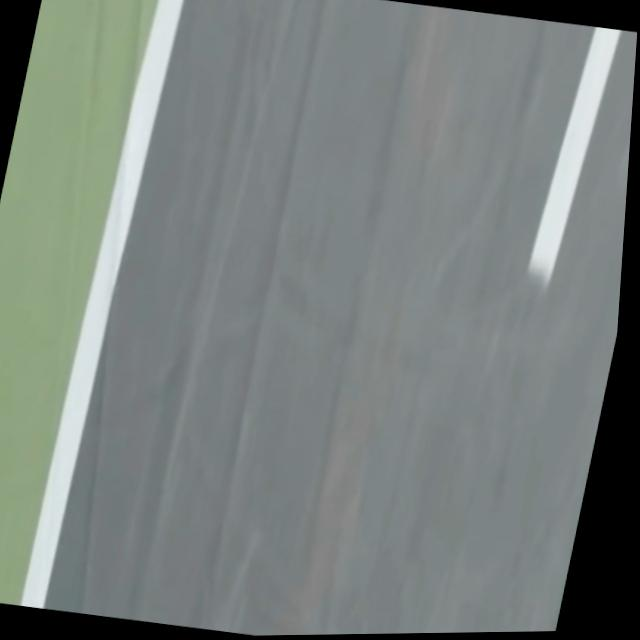center: (530, 27, 622, 287)
right: (21, 0, 184, 609)
